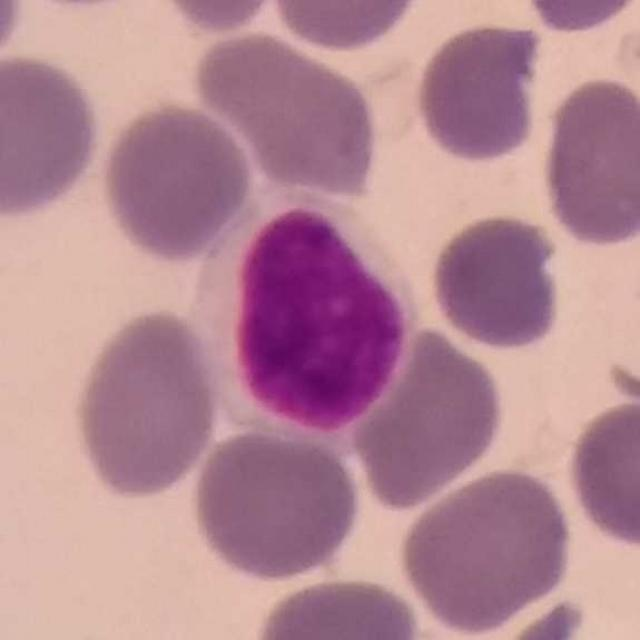Lymphocyte: (184, 185, 438, 442)
RBC: (187, 26, 385, 200), (394, 464, 578, 637), (68, 304, 225, 503), (346, 322, 509, 513), (186, 424, 366, 584), (96, 98, 257, 265), (410, 17, 548, 167), (426, 209, 566, 354), (536, 72, 640, 250), (0, 49, 105, 223), (562, 393, 640, 553), (247, 573, 425, 640), (265, 0, 427, 55), (473, 594, 599, 640), (139, 0, 294, 37), (515, 0, 640, 37), (1, 0, 164, 14), (0, 0, 28, 76)
